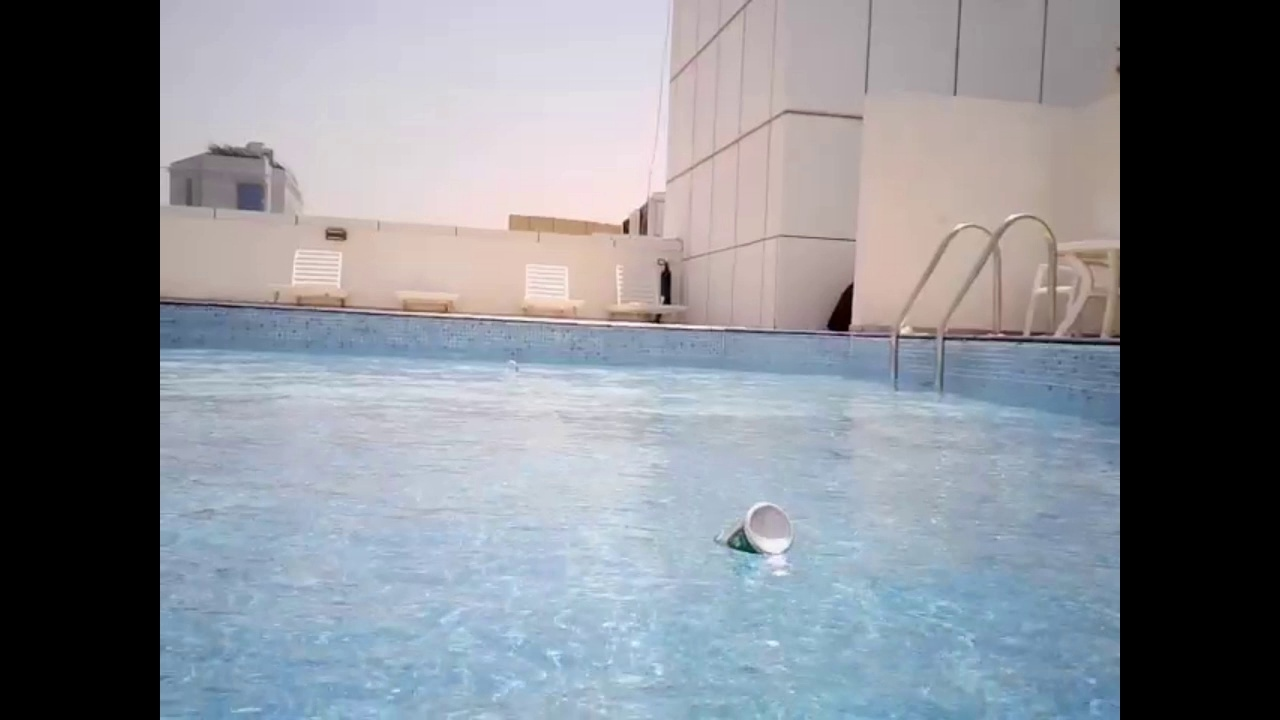debris: (702, 488, 802, 571), (505, 355, 520, 377)
